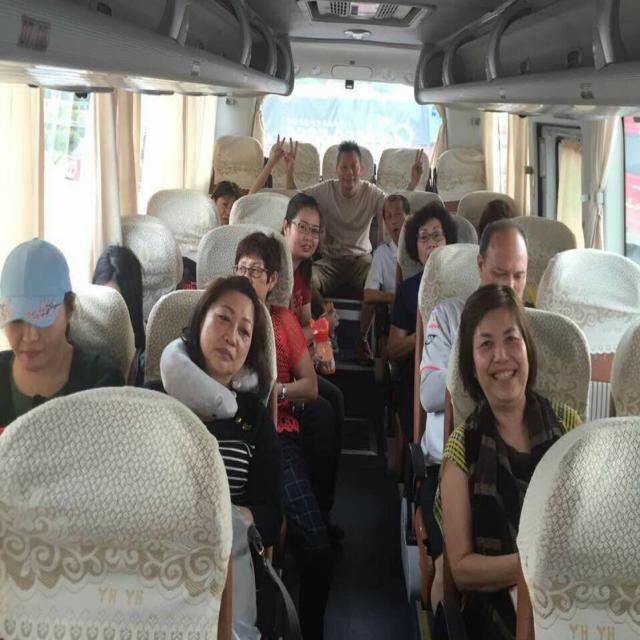body: (436, 280, 610, 640), (416, 217, 531, 640), (137, 273, 290, 565), (84, 176, 249, 388), (283, 137, 425, 360), (231, 230, 322, 562), (0, 235, 128, 439), (280, 192, 346, 521), (386, 198, 464, 396), (363, 192, 416, 318), (476, 197, 517, 239)
